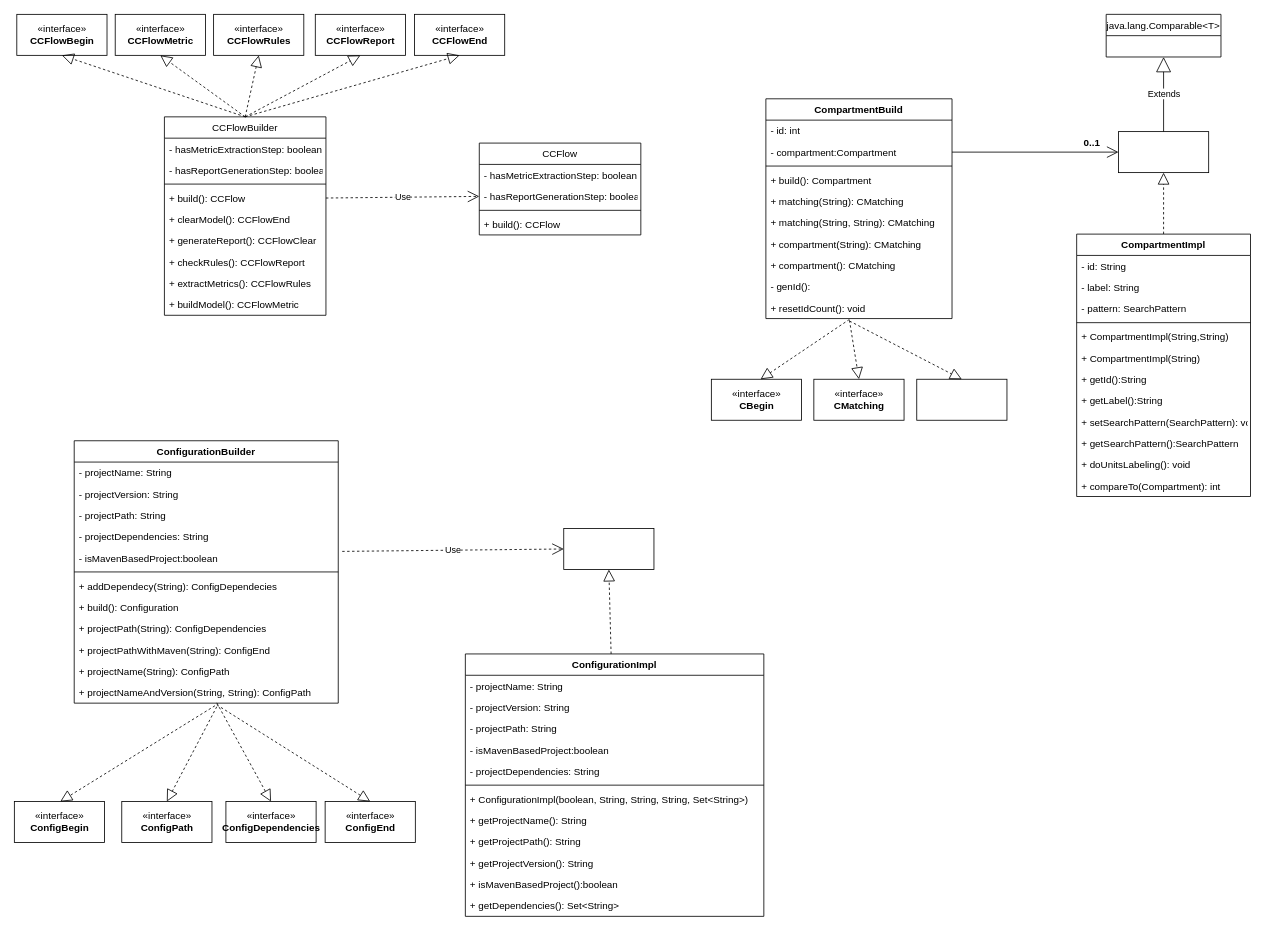
Image size: 1272x933. Some labels were removed from this diagram. Here are the shapes that lost their labels. From the top down, the centre of each, then its label:
[1163,152]: «interface» Compartment
[961,399]: «interface» CEnd
[608,548]: «interface» Configuration
